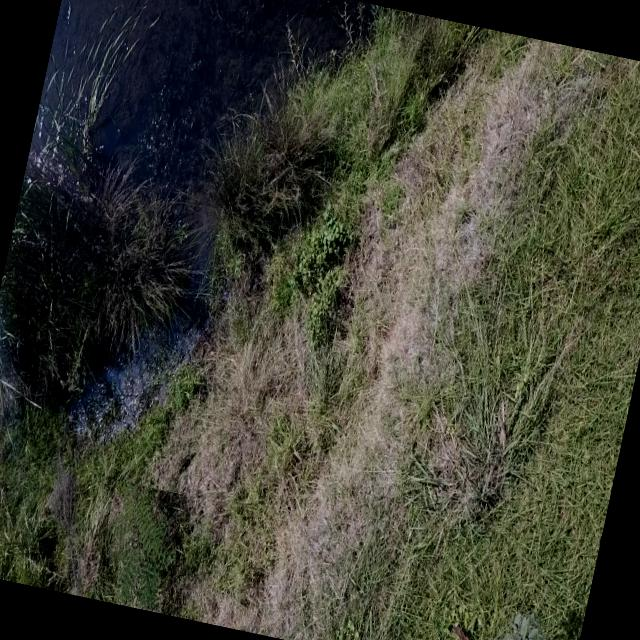Mysore-Thorn-Weed: (91, 480, 186, 613)
